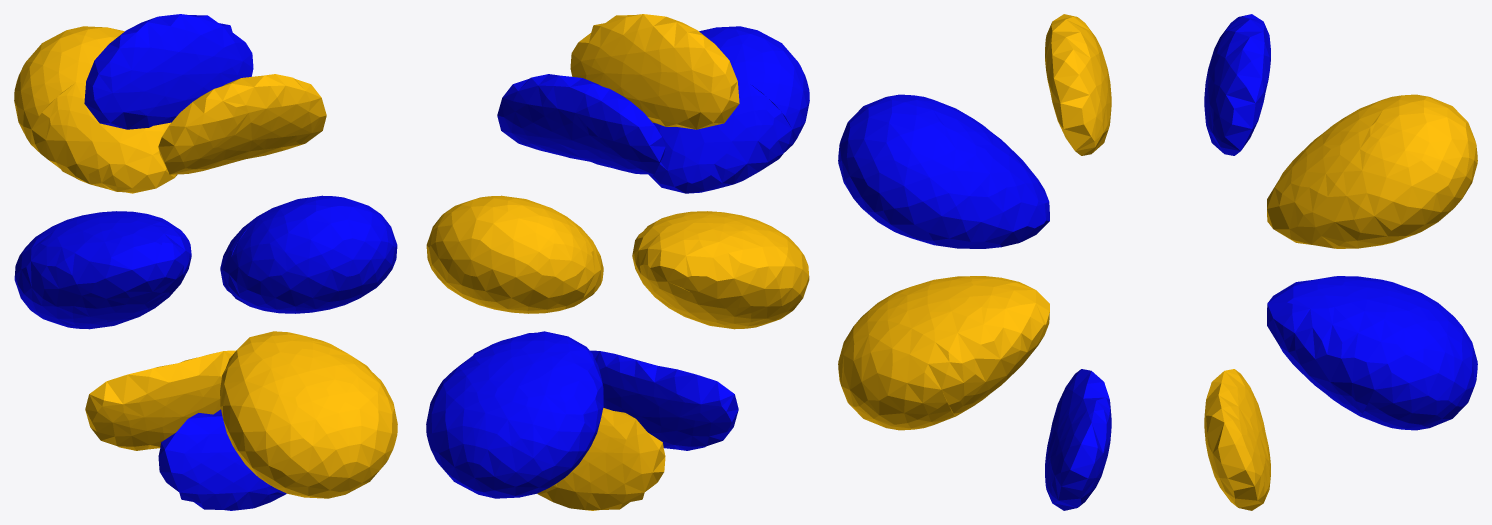
3 views of the same model, side by side, from view 1: azimuth 30°, elevation 25°; view 2: azimuth 150°, elevation 25°; view 3: azimuth 270°, elevation 25° (orthographic). The views are drawn at different scales.
Bounding box in the file's own units: 10.33 × 25.87 × 32.01.
